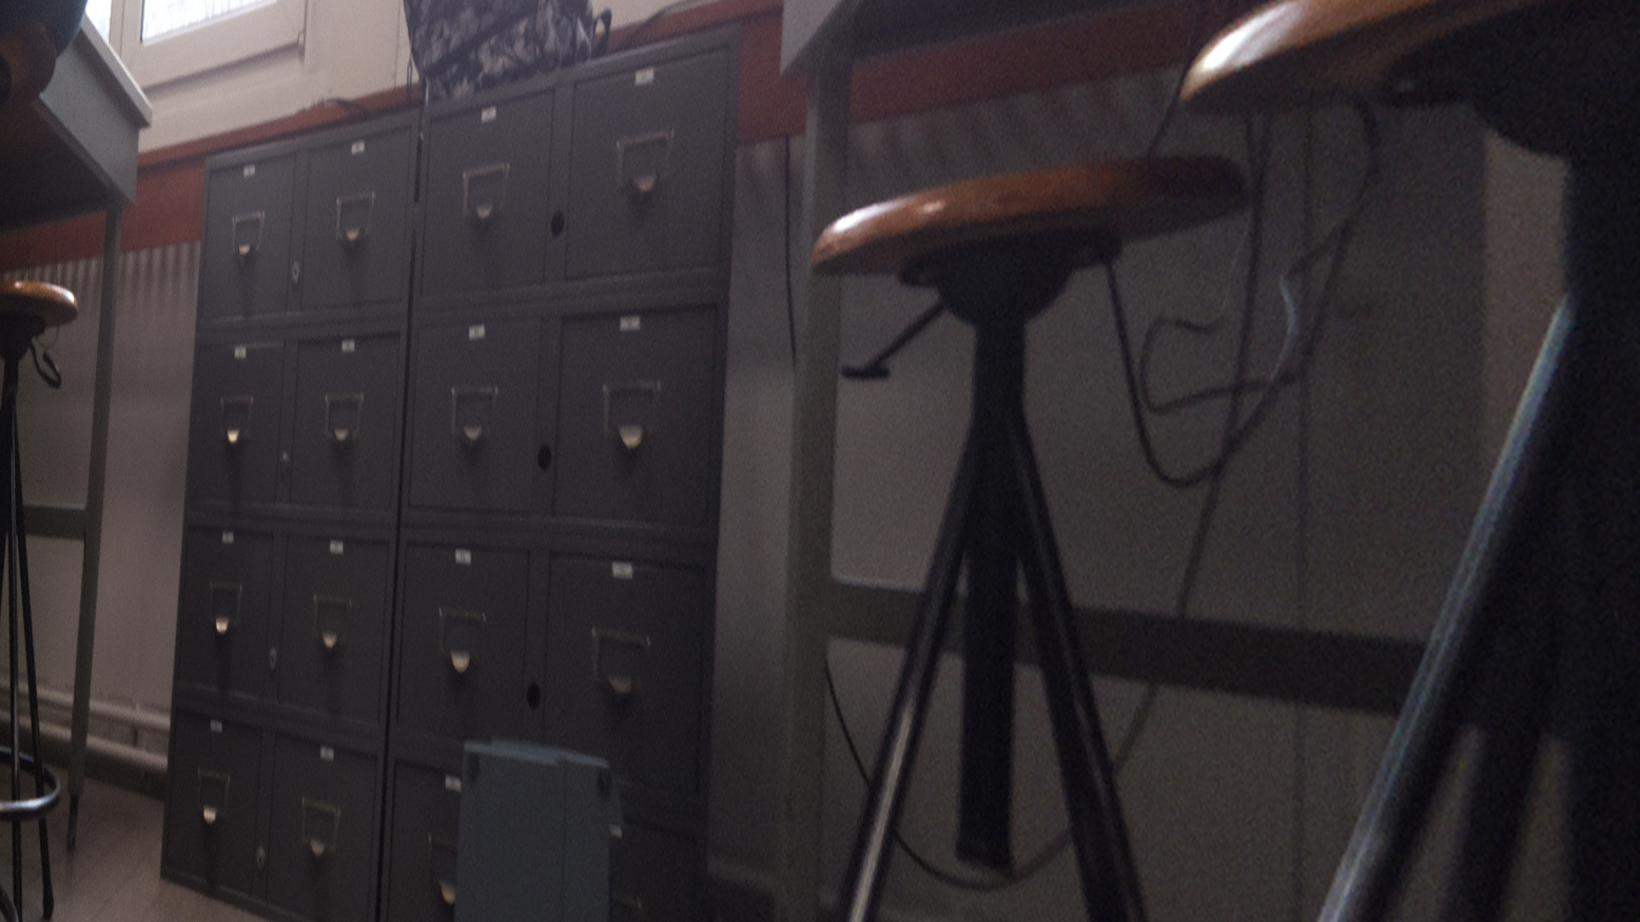big: (403, 3, 597, 86)
medium: (453, 739, 620, 922)
